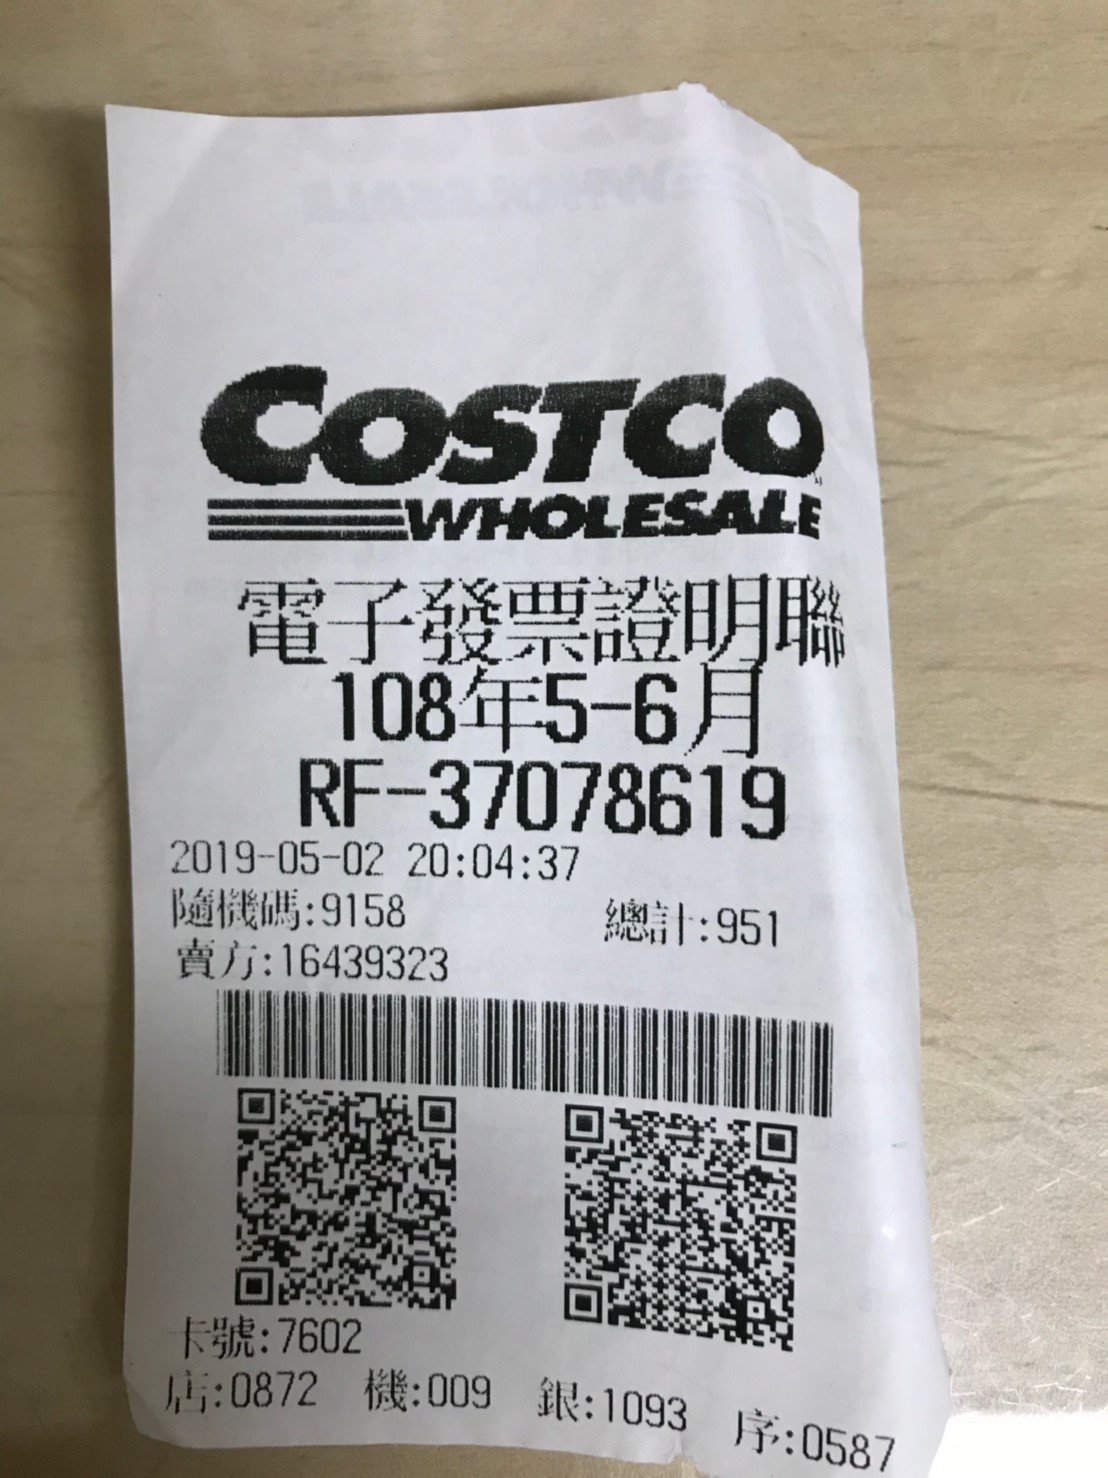Date_New: (335, 667, 765, 753)
Number_New: (428, 760, 789, 841)
